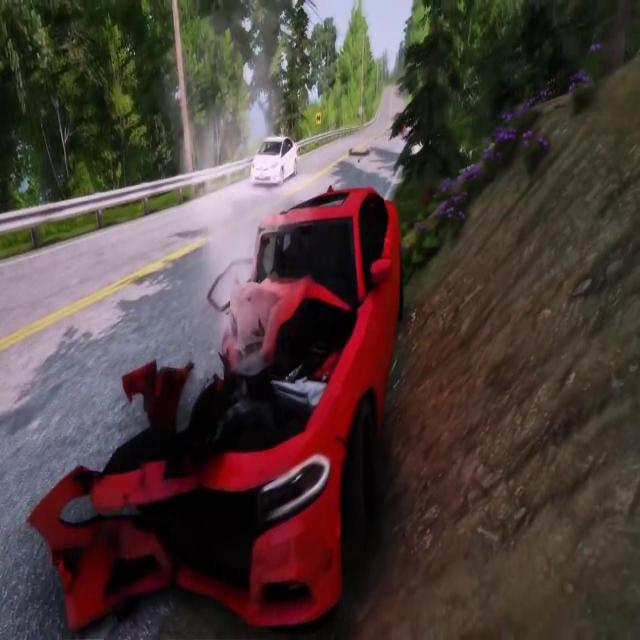accident: (23, 183, 407, 629)
